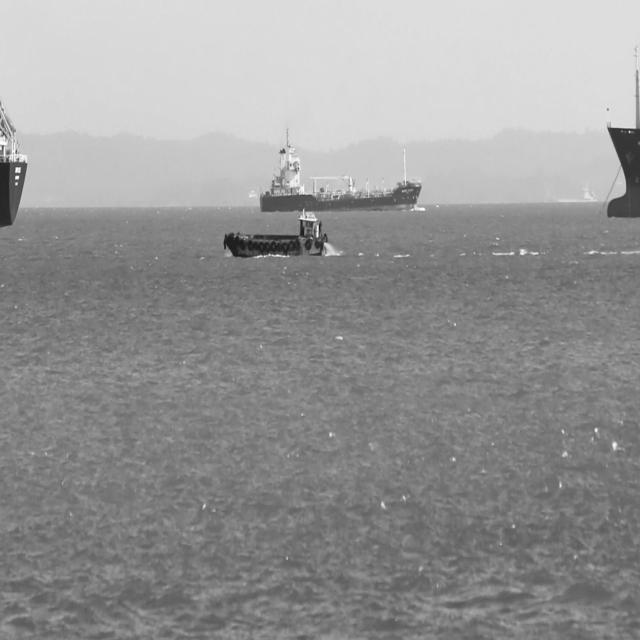ship: (258, 121, 422, 212), (606, 44, 639, 219), (223, 207, 330, 258), (0, 100, 27, 227)
